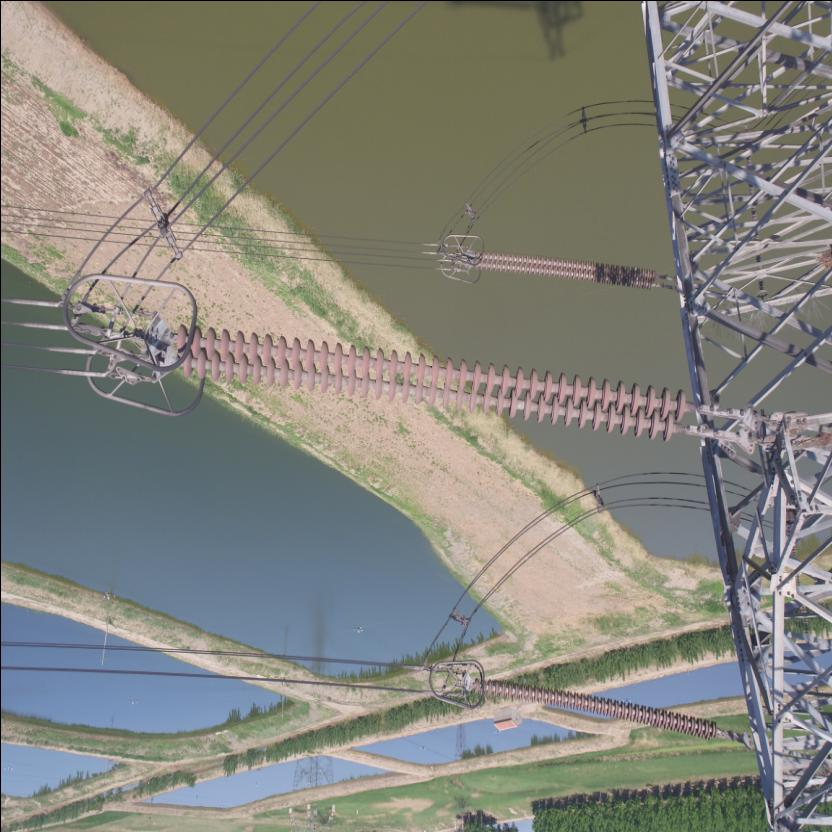insulator: (156, 322, 716, 445), (466, 676, 734, 744), (466, 248, 666, 296)
